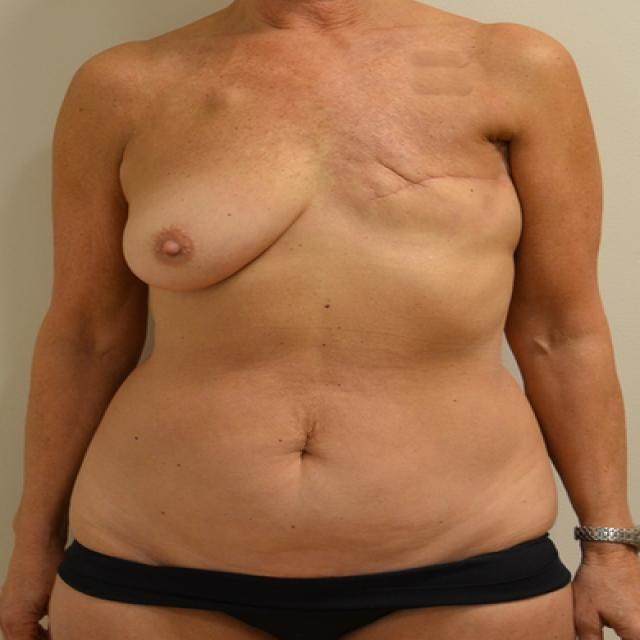Seno herido: (324, 142, 530, 308)
Seno ileso: (117, 143, 316, 310)
